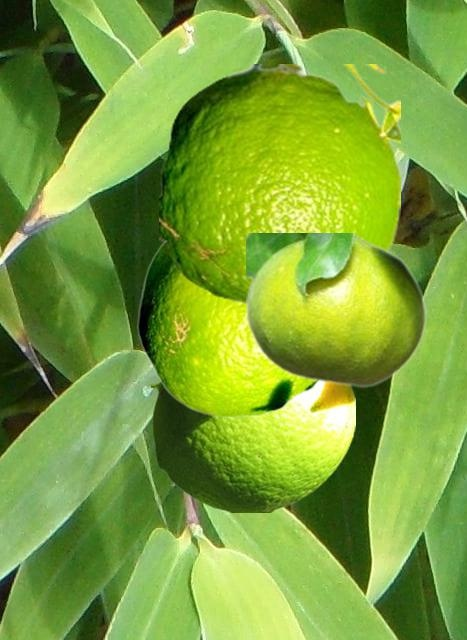dalandan: (159, 64, 399, 307), (137, 242, 318, 417), (246, 233, 426, 387), (151, 380, 354, 511)
